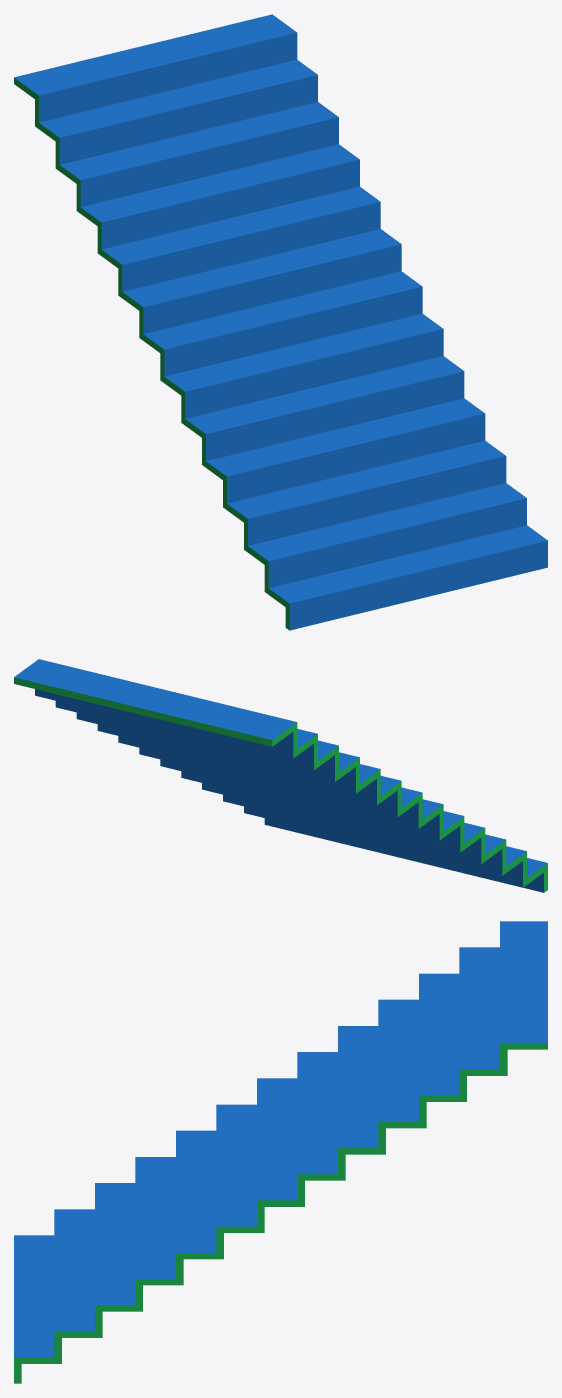
File: SM_plywood_fence_11.fbx
3 renders of one model, top to bottom at view 1: azimuth 30°, elevation 25°; view 2: azimuth 150°, elevation 25°; view 3: azimuth 270°, elevation 25°, orthographic. The views are drawn at different scales.
Visible parts, largest first — view 1: Cube_1; view 2: Cube_1; view 3: Cube_1.
Part boxes in pixels (bbox=[...]): Cube_1: bbox=[14, 14, 547, 630]; Cube_1: bbox=[14, 659, 547, 892]; Cube_1: bbox=[14, 921, 547, 1383].
Bounding box in the file's own units: 150 × 195 × 277.
